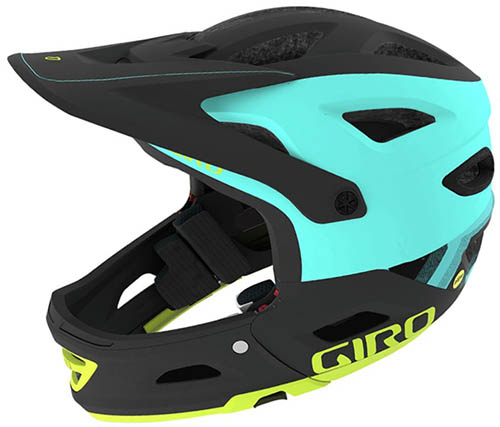with_helmet: (1, 3, 498, 427)
